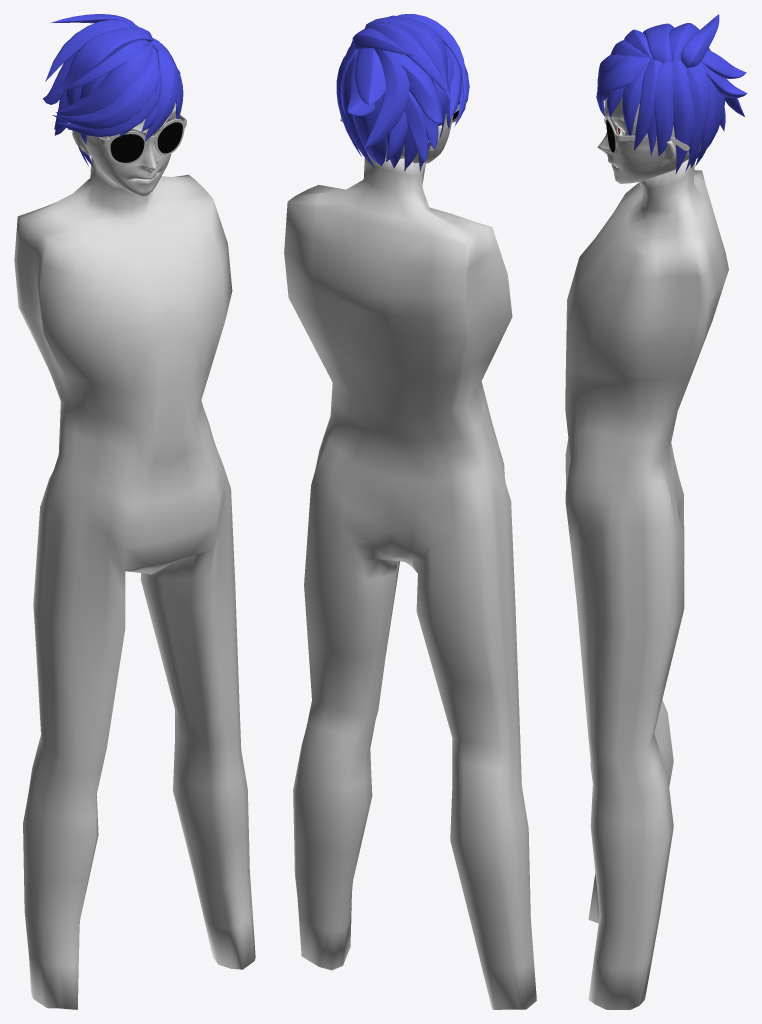
File: Enzo scratch.fbx
3 renders of one model, left to right at view 1: azimuth 30°, elevation 25°; view 2: azimuth 150°, elevation 25°; view 3: azimuth 270°, elevation 25°, orthographic. The views are drawn at different scales.
Visible parts, largest first — view 1: CuBodybe, Head, NurbsPath.003, NurbsPath.011, NurbsPath.006, NurbsPath.001, Accessory_GlassesHiLens_01_MATCAP, NurbsPath.005, NurbsPath.007, NurbsPath.002, Accessory_GlassesHiFrame_01_MATCAP; view 2: CuBodybe, NurbsPath.020, NurbsPath.006, NurbsPath.005, NurbsPath.022, NurbsPath.034, NurbsPath.021, NurbsPath.029, NurbsPath.004, NurbsPath.007, NurbsPath.017, NurbsPath.023 (+2 smaller); view 3: CuBodybe, Head, NurbsPath.025, NurbsPath.027, NurbsPath.023, NurbsPath.012, NurbsPath.001, NurbsPath.004, NurbsPath.010, NurbsPath.006, NurbsPath.024, NurbsPath.005 (+2 smaller).
Part boxes in pixels (left/top/right/bottom): CuBodybe: left=14, top=157, right=255, bottom=1009; Head: left=72, top=102, right=176, bottom=196; NurbsPath.003: left=52, top=43, right=160, bottom=129; NurbsPath.011: left=56, top=43, right=153, bottom=116; NurbsPath.006: left=51, top=27, right=153, bottom=95; NurbsPath.001: left=144, top=44, right=180, bottom=142; Accessory_GlassesHiLens_01_MATCAP: left=110, top=122, right=182, bottom=162; NurbsPath.005: left=45, top=19, right=138, bottom=81; NurbsPath.007: left=64, top=39, right=151, bottom=89; NurbsPath.002: left=55, top=80, right=160, bottom=136; Accessory_GlassesHiFrame_01_MATCAP: left=68, top=114, right=186, bottom=164; CuBodybe: left=284, top=152, right=536, bottom=1009; NurbsPath.020: left=365, top=48, right=409, bottom=147; NurbsPath.006: left=365, top=16, right=453, bottom=103; NurbsPath.005: left=364, top=22, right=450, bottom=94; NurbsPath.022: left=355, top=48, right=386, bottom=105; NurbsPath.034: left=400, top=56, right=442, bottom=123; NurbsPath.021: left=354, top=62, right=387, bottom=166; NurbsPath.029: left=404, top=91, right=428, bottom=162; NurbsPath.004: left=352, top=28, right=414, bottom=55; NurbsPath.007: left=394, top=14, right=465, bottom=77; NurbsPath.017: left=347, top=50, right=375, bottom=116; NurbsPath.023: left=336, top=47, right=361, bottom=156; CuBodybe: left=565, top=159, right=728, bottom=1009; Head: left=597, top=97, right=701, bottom=183; NurbsPath.025: left=671, top=60, right=694, bottom=173; NurbsPath.027: left=654, top=61, right=673, bottom=156; NurbsPath.023: left=685, top=62, right=709, bottom=171; NurbsPath.012: left=634, top=58, right=662, bottom=150; NurbsPath.001: left=596, top=55, right=649, bottom=116; NurbsPath.004: left=680, top=14, right=719, bottom=67; NurbsPath.010: left=622, top=63, right=648, bottom=141; NurbsPath.006: left=643, top=23, right=674, bottom=63; NurbsPath.024: left=695, top=76, right=718, bottom=165; NurbsPath.005: left=669, top=23, right=699, bottom=61.
Size of the model in its own units: 0.4296 by 1.8 by 0.3177.
